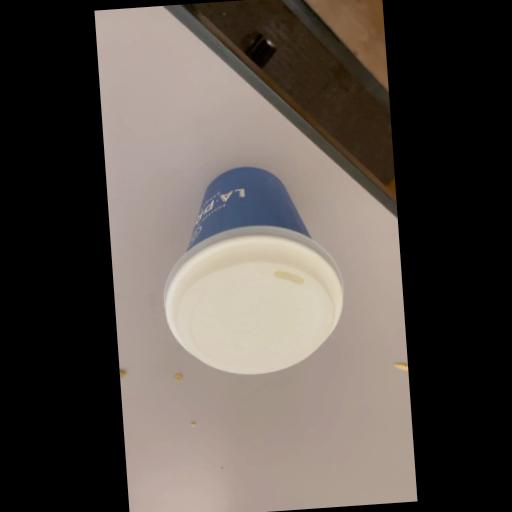lp_paper_cup: (154, 162, 348, 379)
